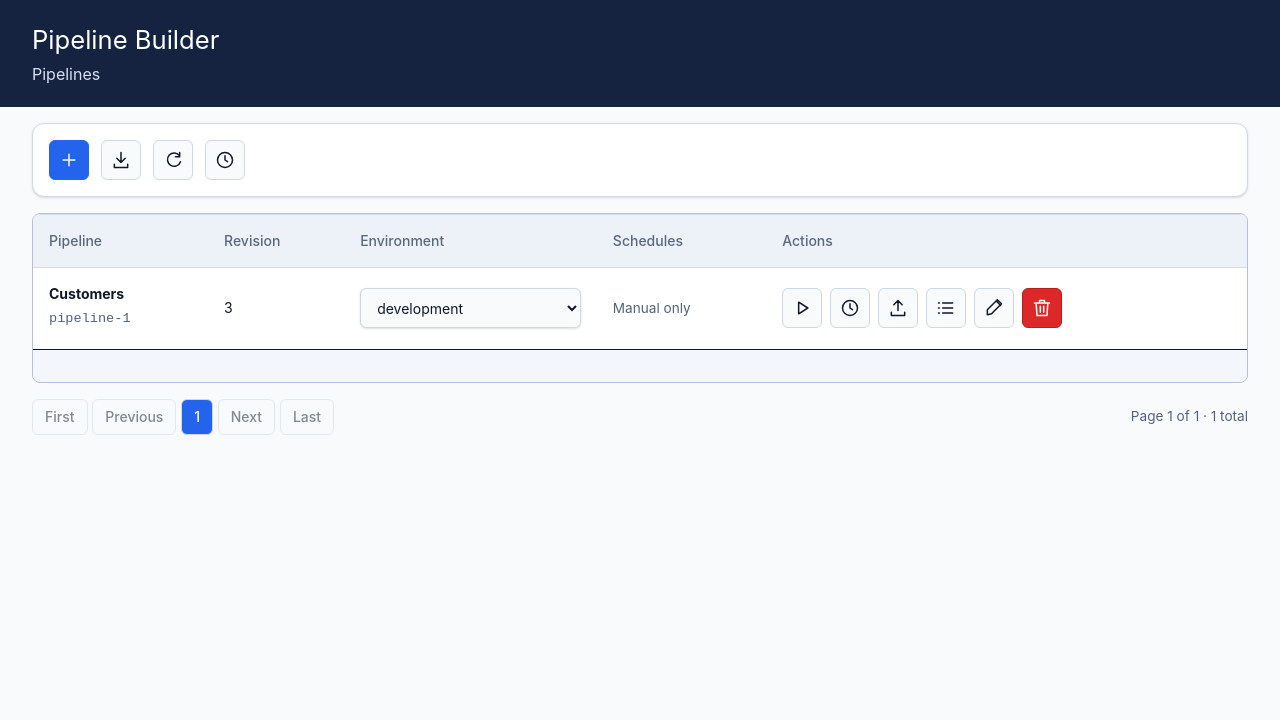
requires confirmation before deleting and refreshes the list afterward
Expected: the text "Customers" is shown, [49,285,124,302]
What coordinates should you click on to do the following:
click the button named "Delete Customers"
I would click on:
 (1042, 308)
Its box is [1022,288,1062,328].
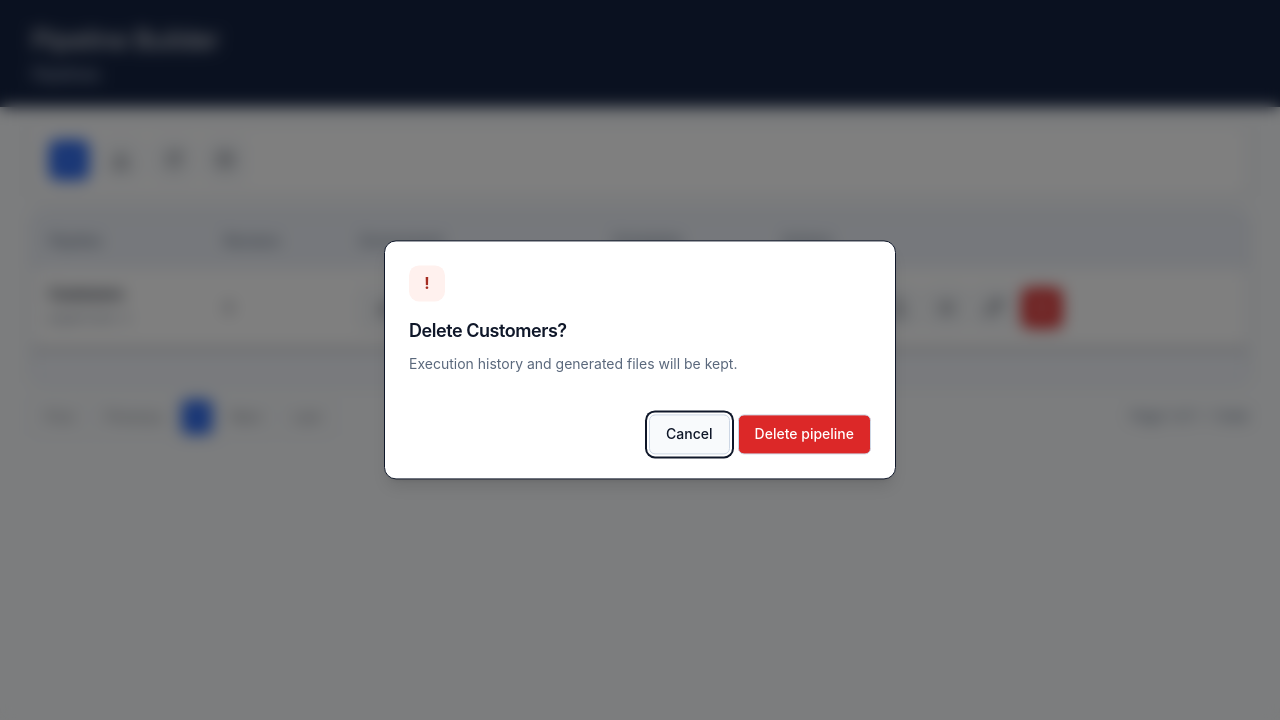
Expected: the text "Execution history and generated files will be kept." is shown, [409,356,737,373]
What coordinates should you click on to do the following:
click the button "Cancel"
I would click on:
 (689, 435)
Its box is [649,415,730,455].
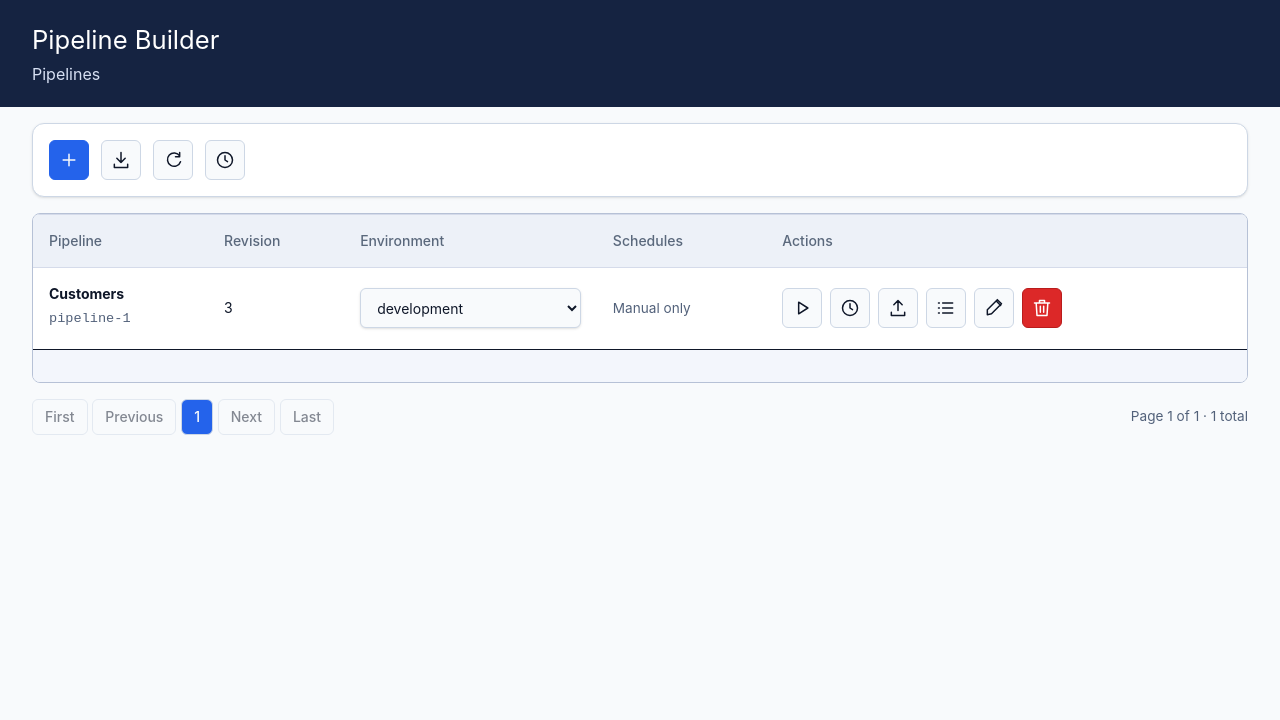
What coordinates should you click on to do the following:
click the button named "Delete Customers"
I would click on:
 (1042, 308)
Its box is [1022,288,1062,328].
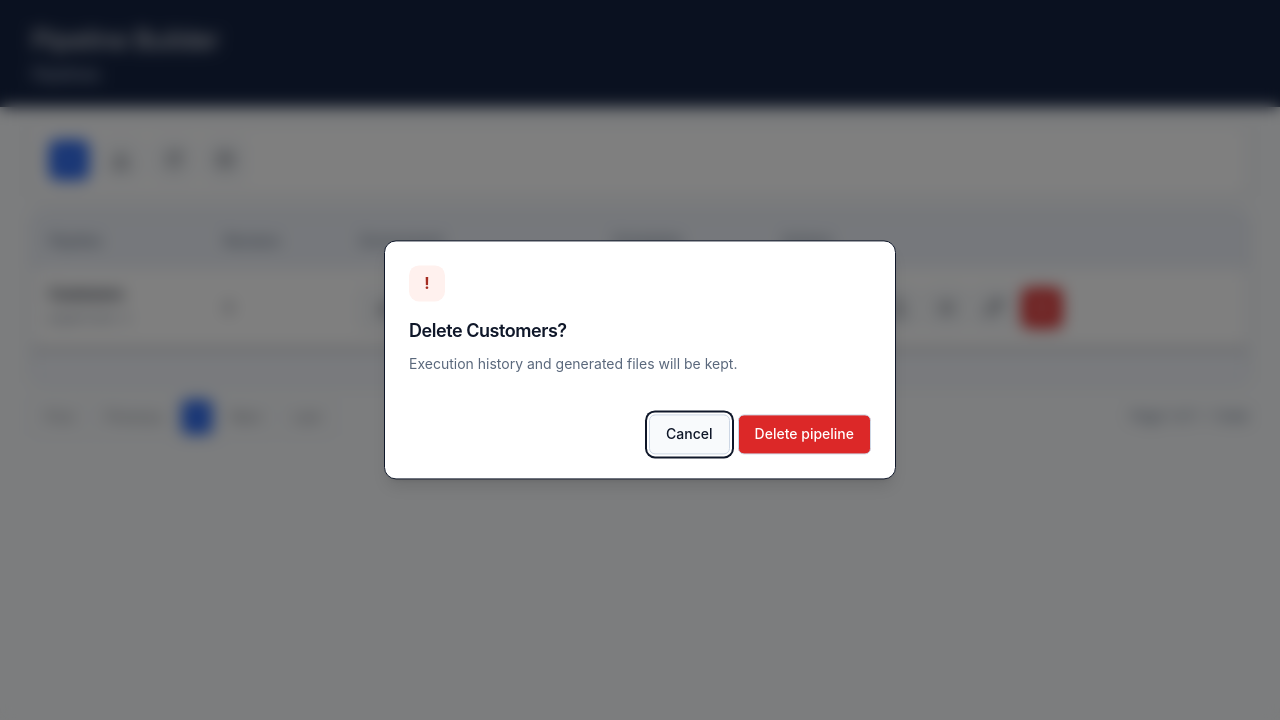
What coordinates should you click on to do the following:
click the button "Delete pipeline"
I would click on:
 (804, 435)
Its box is [738,415,871,455].
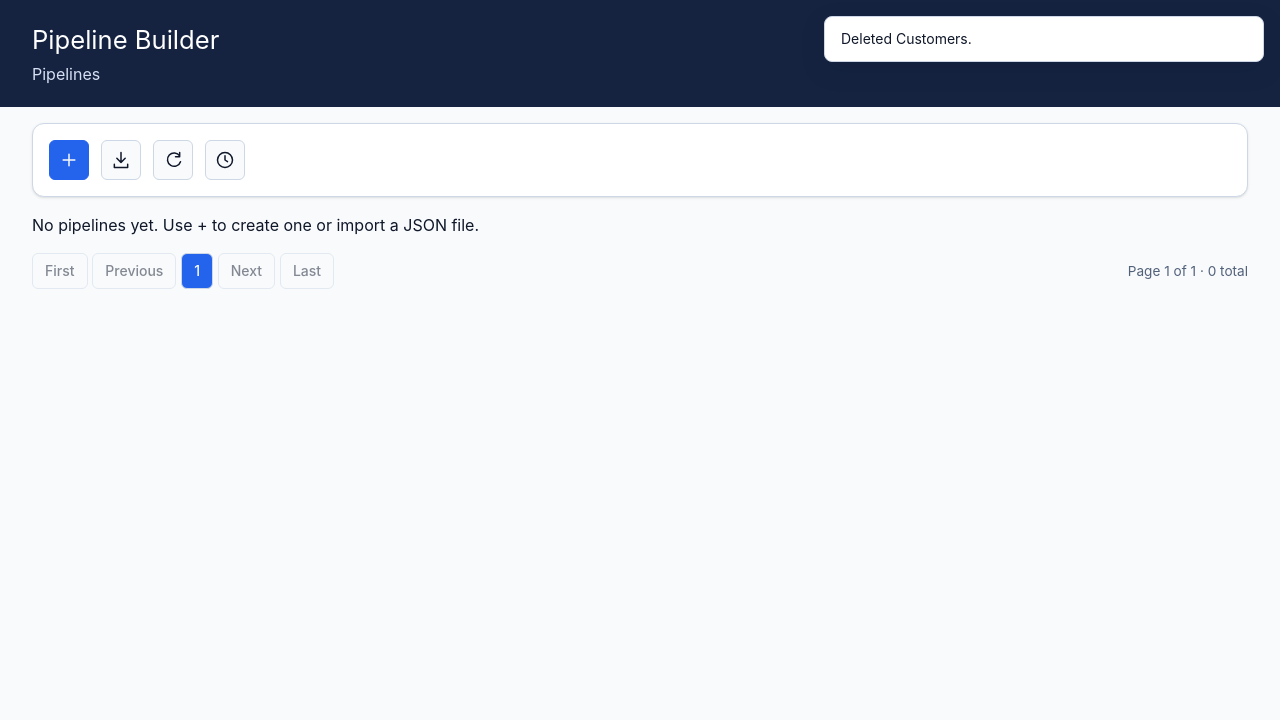
Expected: the text "No pipelines yet. Use + to create one or import a JSON file." is shown, [32,215,479,235]
